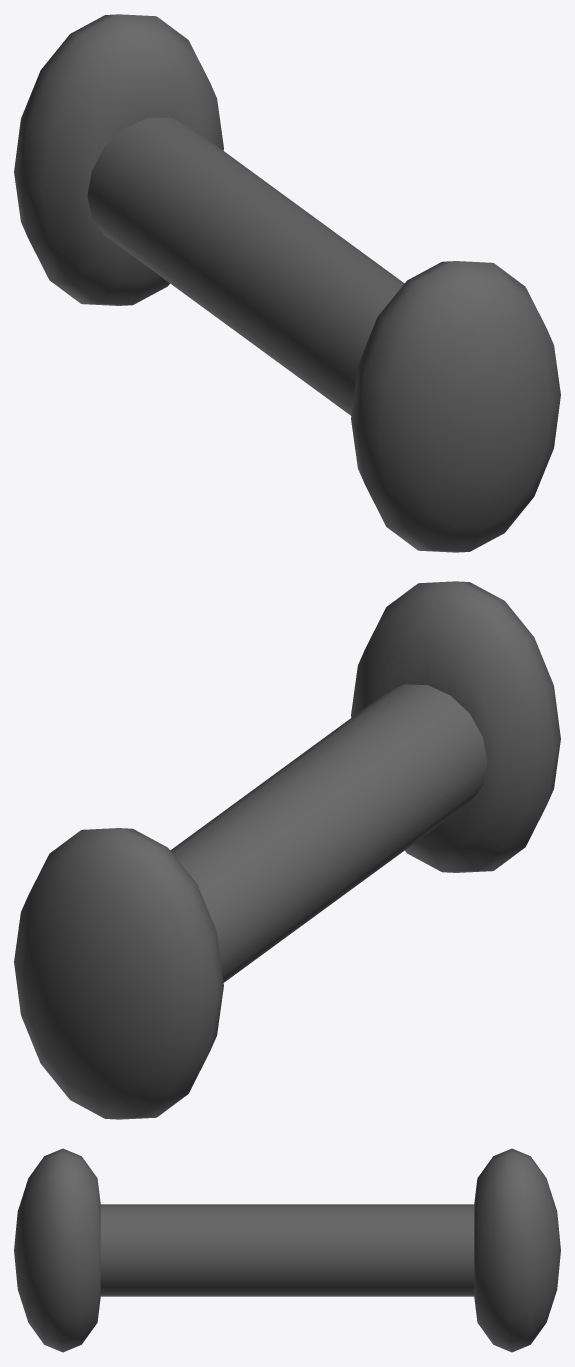
File: Doorway_5_doorway_handle_5.obj
The picture shows the model from 3 angles, top to bottom: view 1: azimuth 30°, elevation 25°; view 2: azimuth 150°, elevation 25°; view 3: azimuth 270°, elevation 25°; orthographic projection. The views are drawn at different scales.
Size of the model in its own units: 0.044 by 0.0622 by 0.1588.
